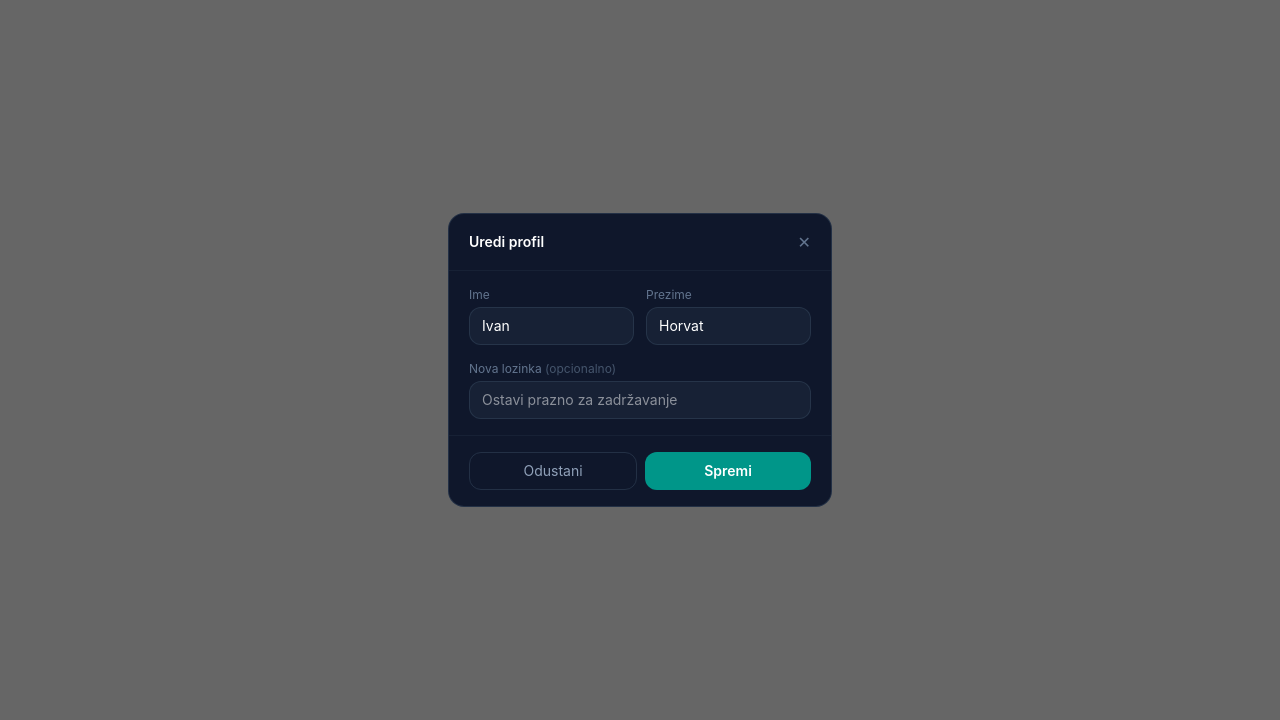
ProfileEditModal › prikazuje grešku kada su ime/prezime prazni
Clear the 1st field showing "Ivan" at point(552, 326), box [469, 307, 634, 345]
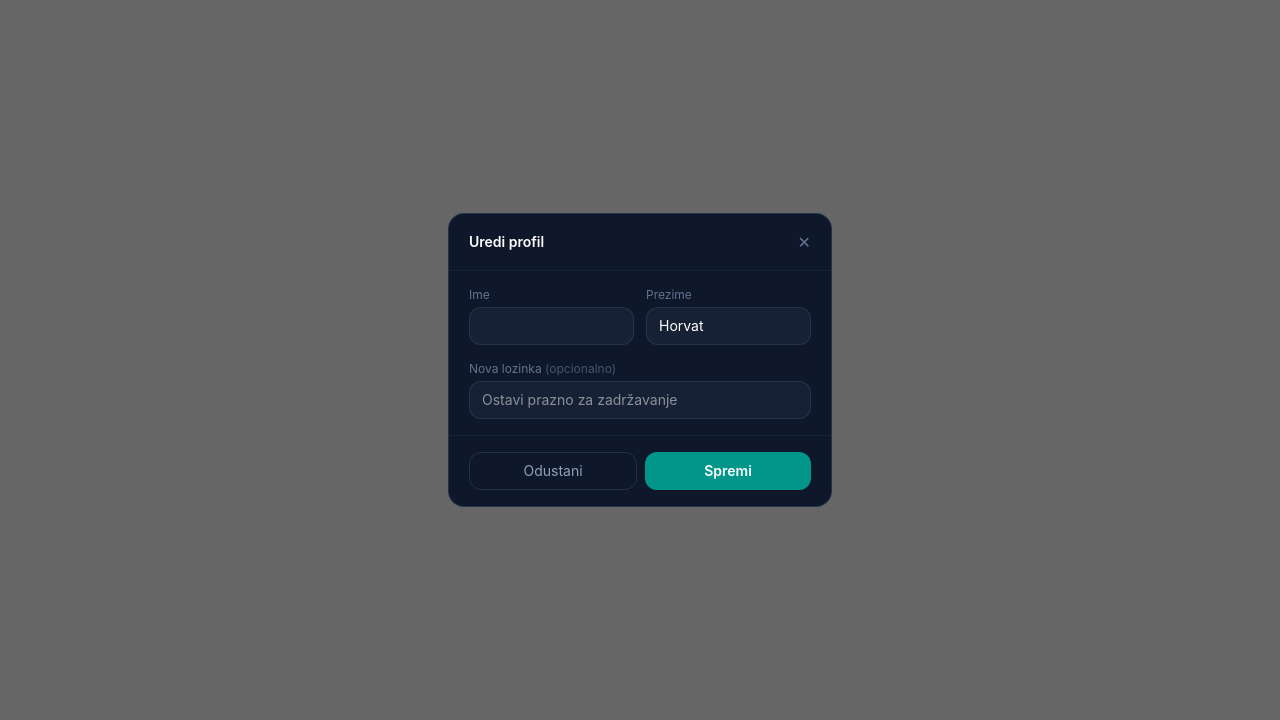
Click the button "Spremi" at point(728, 471), box [645, 452, 811, 490]
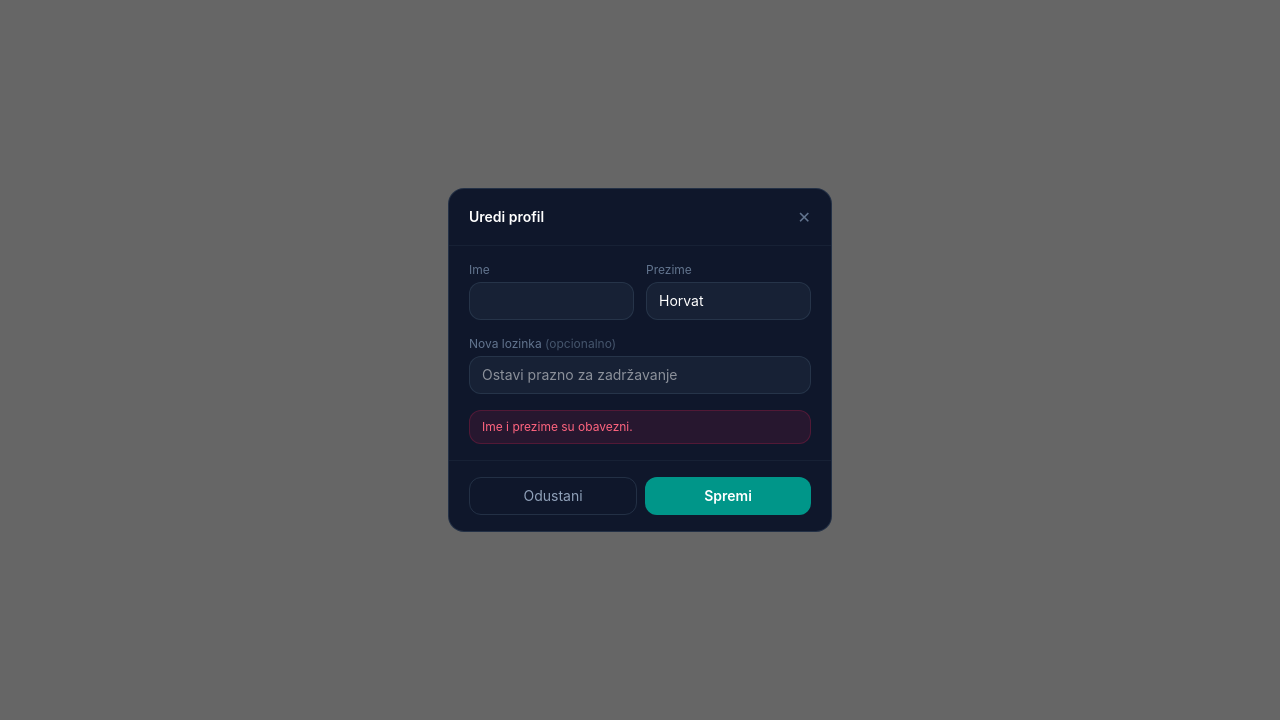
Check: the text "Ime i prezime su obavezni." is shown, box [469, 410, 811, 444]
